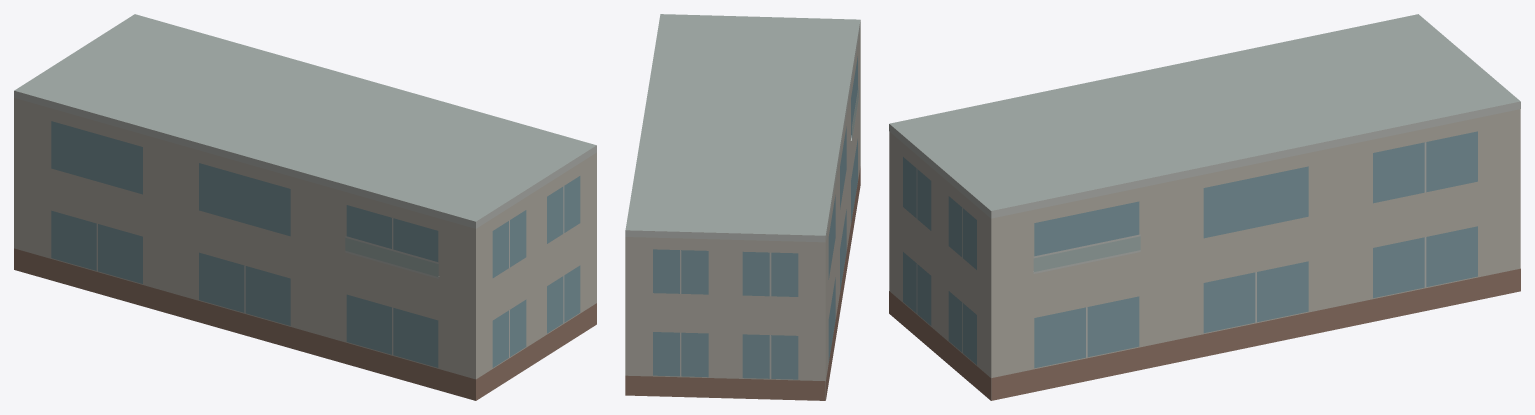
The model's file is survey-upis-33028861.glb.
3 renders of one model, left to right at view 1: azimuth 30°, elevation 25°; view 2: azimuth 150°, elevation 25°; view 3: azimuth 270°, elevation 25°, orthographic. The views are drawn at different scales.
Visible parts, largest first — view 1: survey-upis-33028861.tmp; view 2: survey-upis-33028861.tmp; view 3: survey-upis-33028861.tmp.
Part boxes in pixels (<box>): survey-upis-33028861.tmp: <box>14,14,596,400</box>; survey-upis-33028861.tmp: <box>625,14,860,400</box>; survey-upis-33028861.tmp: <box>889,14,1520,400</box>.
Bounding box in the file's own units: 13.59 × 6.1 × 18.41.
